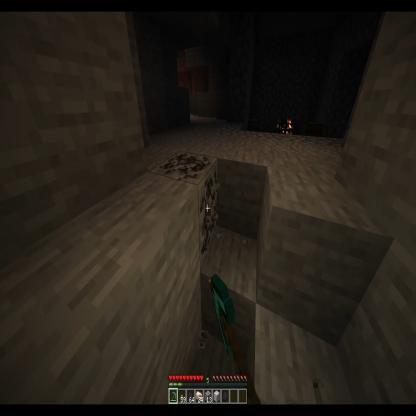coal ore: (151, 151, 217, 273)
